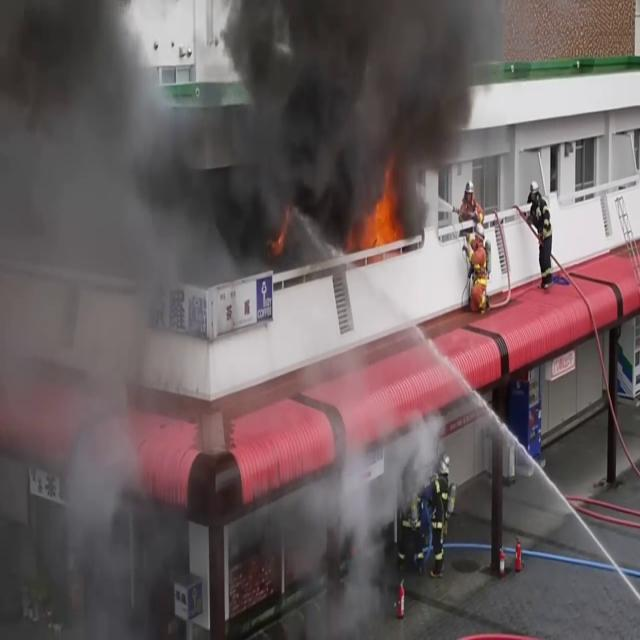Fire: (352, 178, 404, 262)
Smoke: (1, 0, 505, 264), (0, 1, 182, 634), (226, 0, 499, 235)
